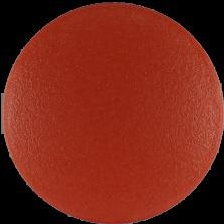0781-1439: (0, 0, 224, 224)
